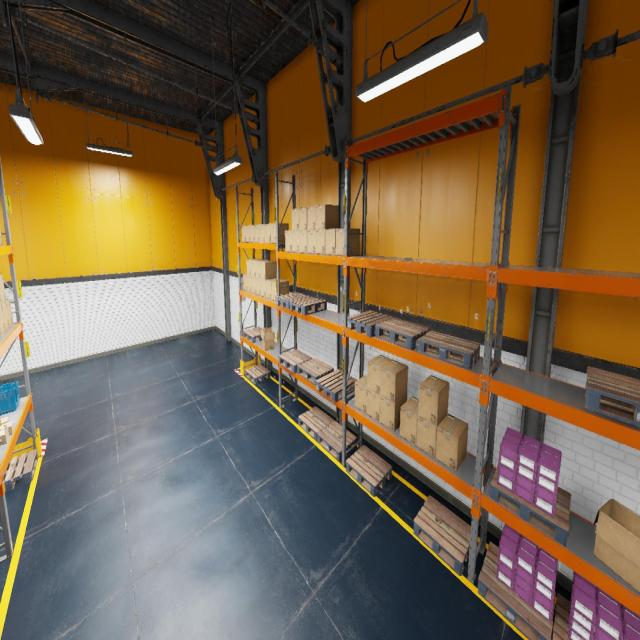box: (593, 499, 640, 593), (436, 414, 468, 472), (418, 375, 449, 426), (416, 413, 447, 458), (380, 360, 408, 403), (367, 354, 393, 395), (380, 394, 407, 432), (400, 396, 418, 446), (335, 228, 360, 256), (316, 204, 338, 229), (355, 374, 367, 414), (367, 388, 380, 422), (270, 223, 289, 242), (271, 280, 289, 300), (255, 259, 272, 278), (266, 278, 282, 298), (261, 328, 275, 350), (260, 261, 276, 279), (250, 259, 266, 277), (246, 259, 262, 276), (325, 229, 335, 255), (316, 229, 325, 254), (2, 302, 9, 332), (307, 230, 316, 253), (6, 299, 13, 327), (0, 424, 9, 445), (307, 206, 315, 229), (299, 207, 307, 230), (0, 421, 14, 434), (0, 274, 6, 304), (299, 230, 307, 252), (0, 304, 5, 336), (292, 230, 299, 252), (285, 231, 292, 251), (292, 208, 298, 230), (260, 278, 266, 297), (259, 224, 265, 242), (254, 225, 260, 242), (265, 224, 270, 242), (250, 224, 255, 242), (251, 277, 256, 294), (0, 417, 10, 424), (256, 278, 260, 295), (246, 225, 250, 242), (247, 276, 251, 292), (243, 274, 247, 290), (242, 226, 246, 242), (0, 228, 2, 245), (0, 290, 2, 306), (0, 327, 1, 338)
pallets: (478, 542, 556, 640), (489, 464, 571, 546), (413, 495, 471, 576), (584, 366, 640, 426), (418, 330, 480, 370), (346, 445, 392, 497), (375, 318, 430, 350), (317, 421, 357, 461), (4, 448, 38, 492), (316, 370, 357, 402), (298, 406, 334, 441), (347, 311, 394, 337), (297, 357, 334, 386), (552, 594, 570, 640), (278, 349, 312, 373), (289, 296, 327, 315), (275, 293, 310, 309), (245, 364, 270, 384), (243, 327, 262, 342)
